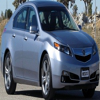Car: (1, 2, 100, 95)
